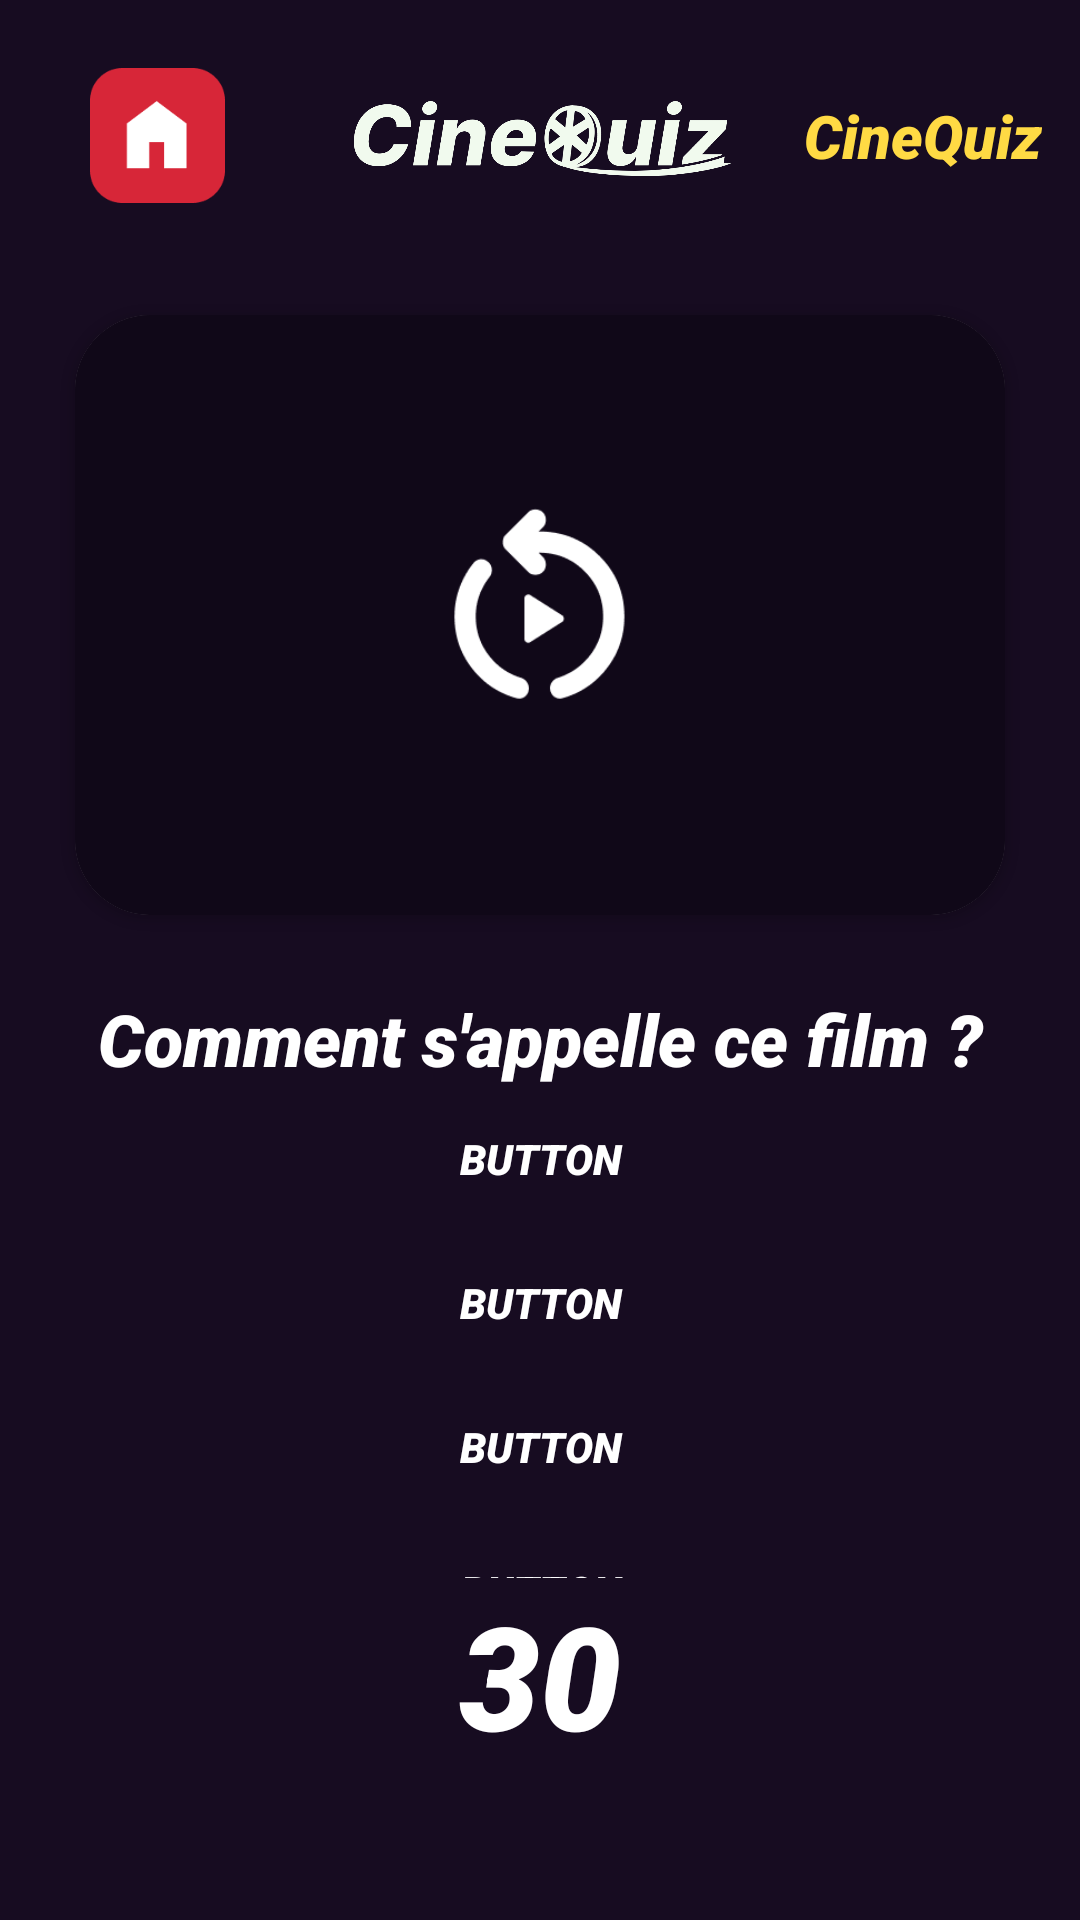

Where icons sit on this 1080×1920 app screen, as [x1,y1,x2,y2]:
home: [90,68,225,203]
